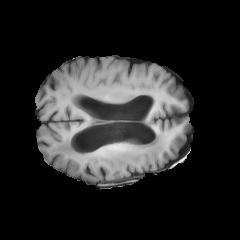glioma: (50, 133, 165, 179)
